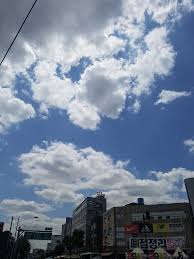sky: (1, 1, 193, 198)
